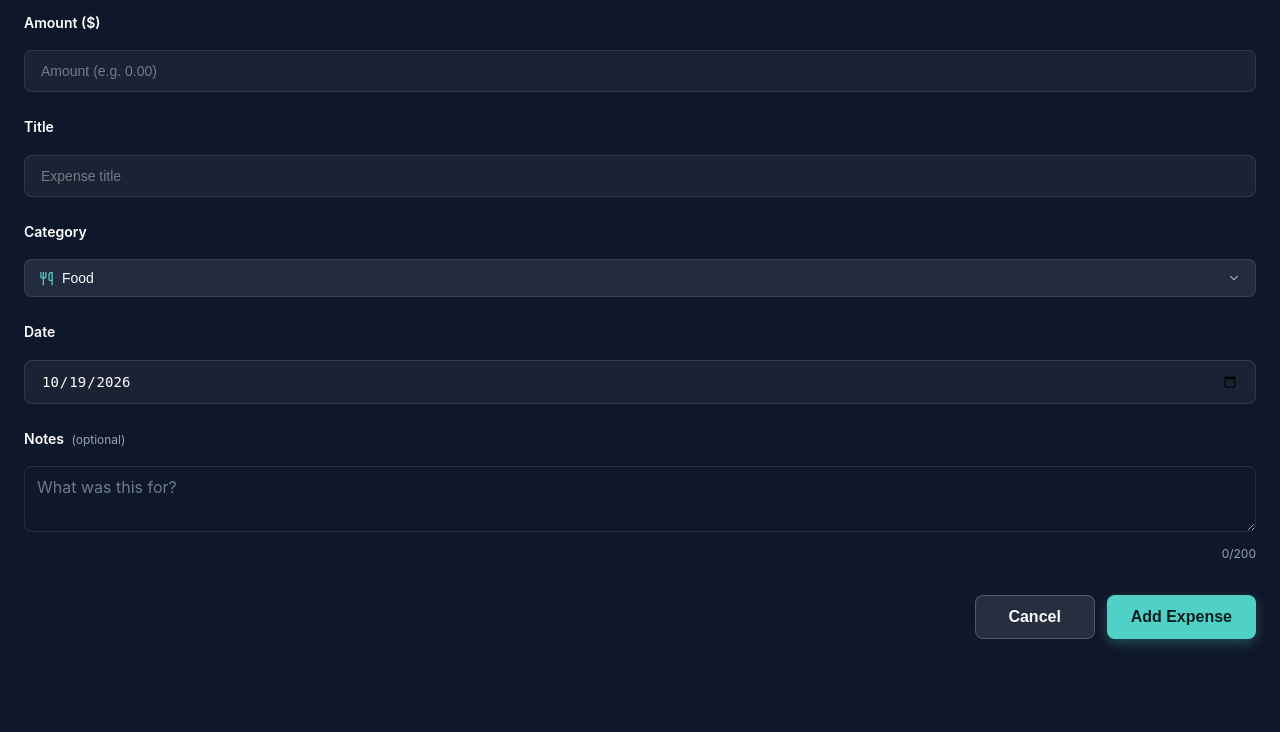
it: ExpenseForm component › shows validation error when title is missing
Type "10" into the field labelled "Amount ($)" at (640, 71), box [24,50,1256,92]
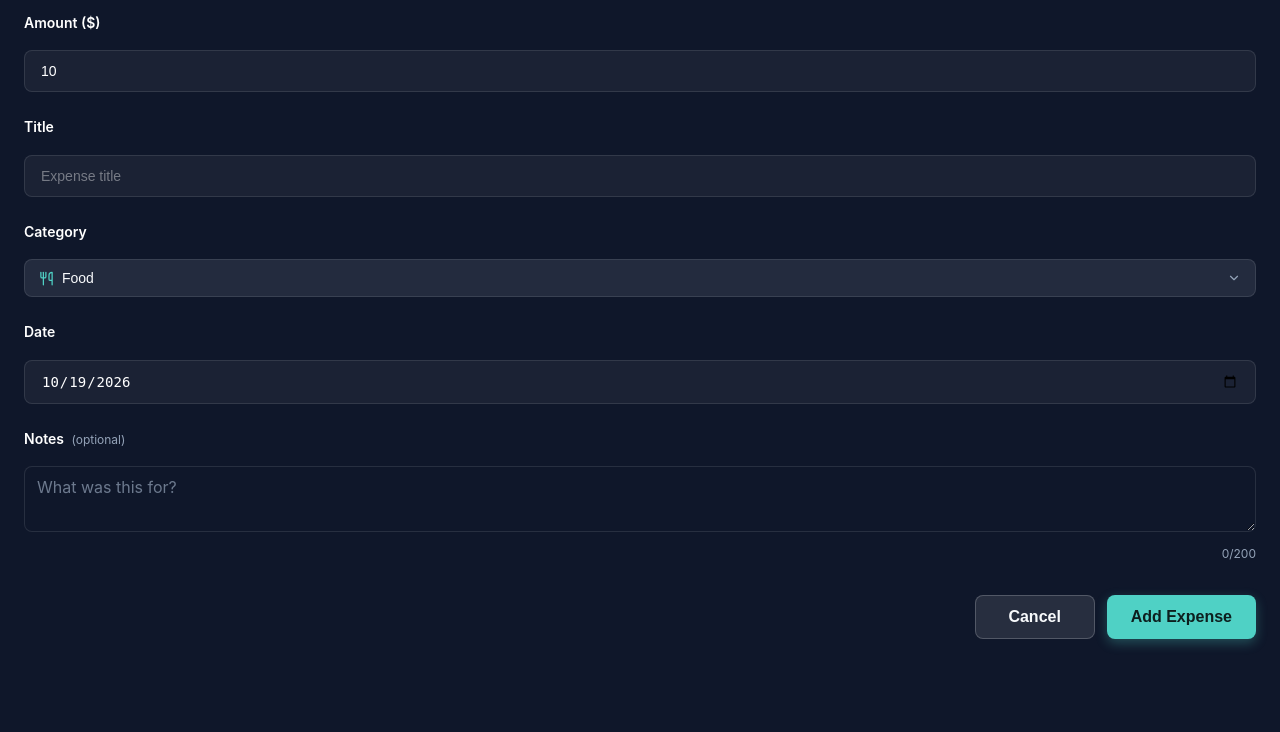
Type "2024-02-20" into the date field labelled "Date" at (640, 382), box [24,360,1256,404]
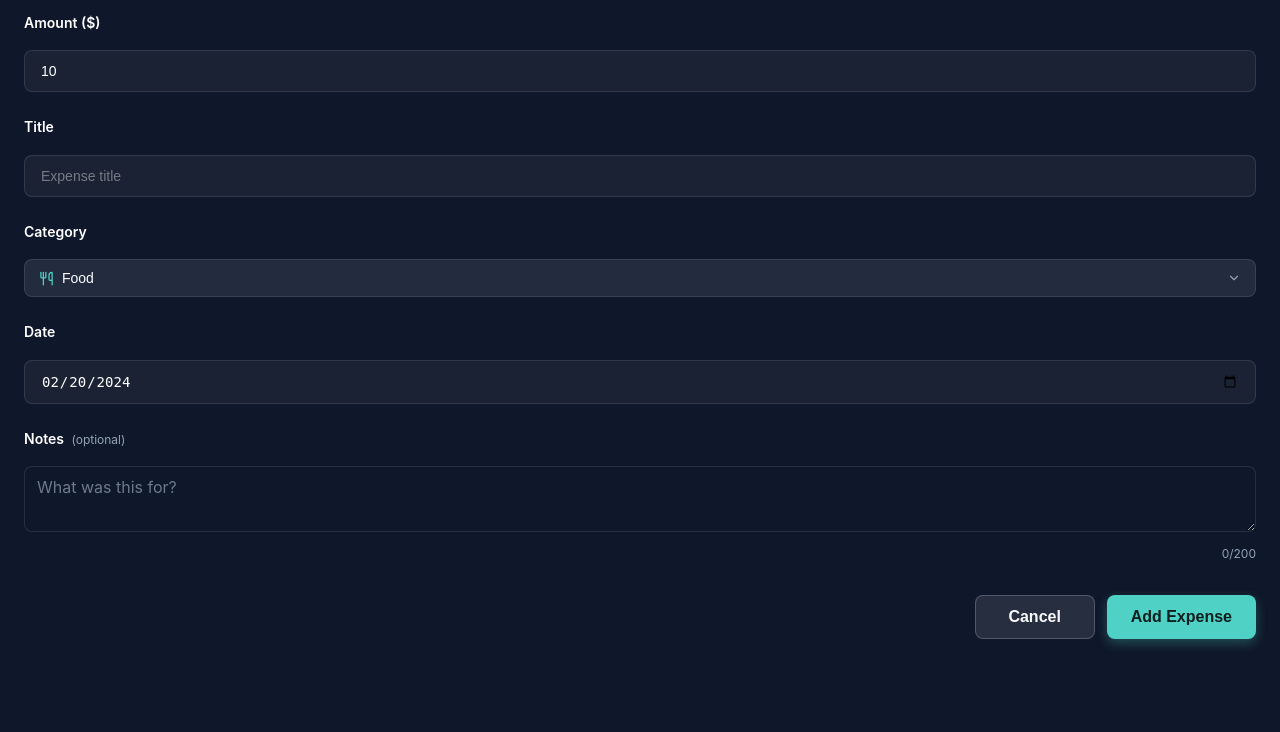
Click the button "Add Expense" at (1181, 617), box [1107,595,1256,639]
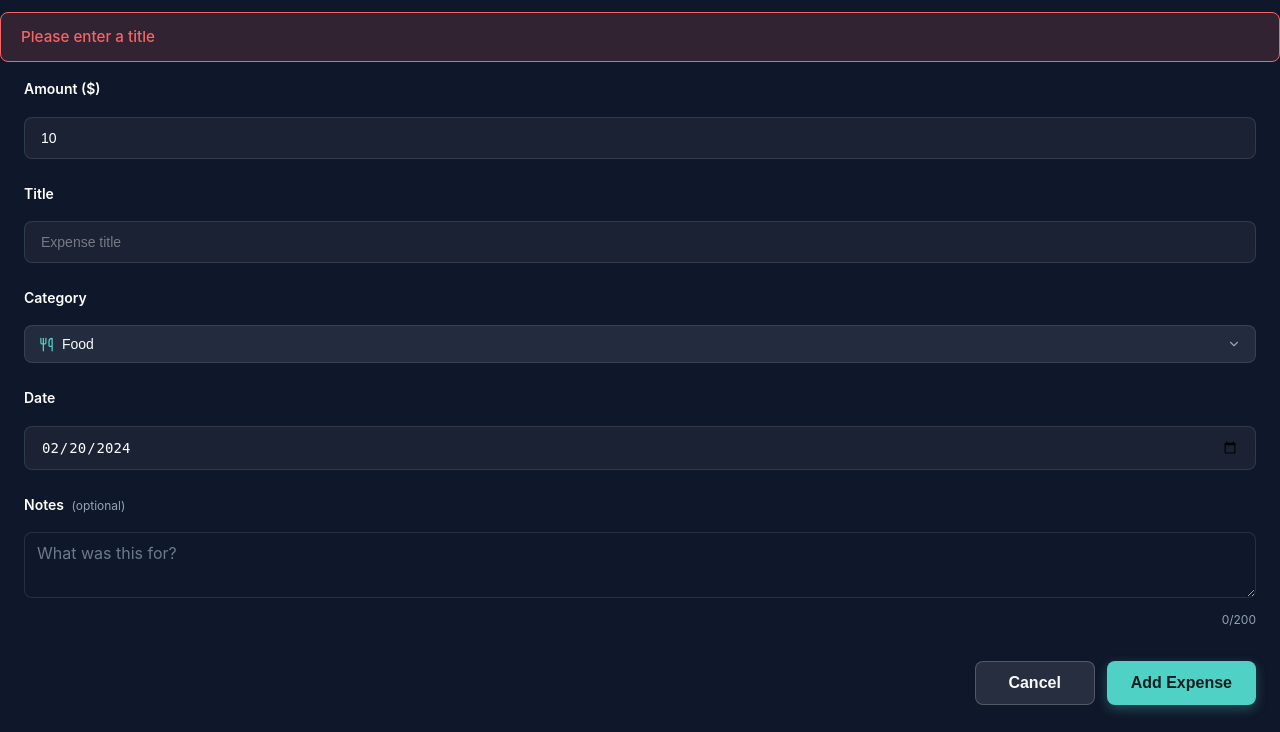
Expected: the text "Please enter a title" is shown, [0,12,1279,62]
